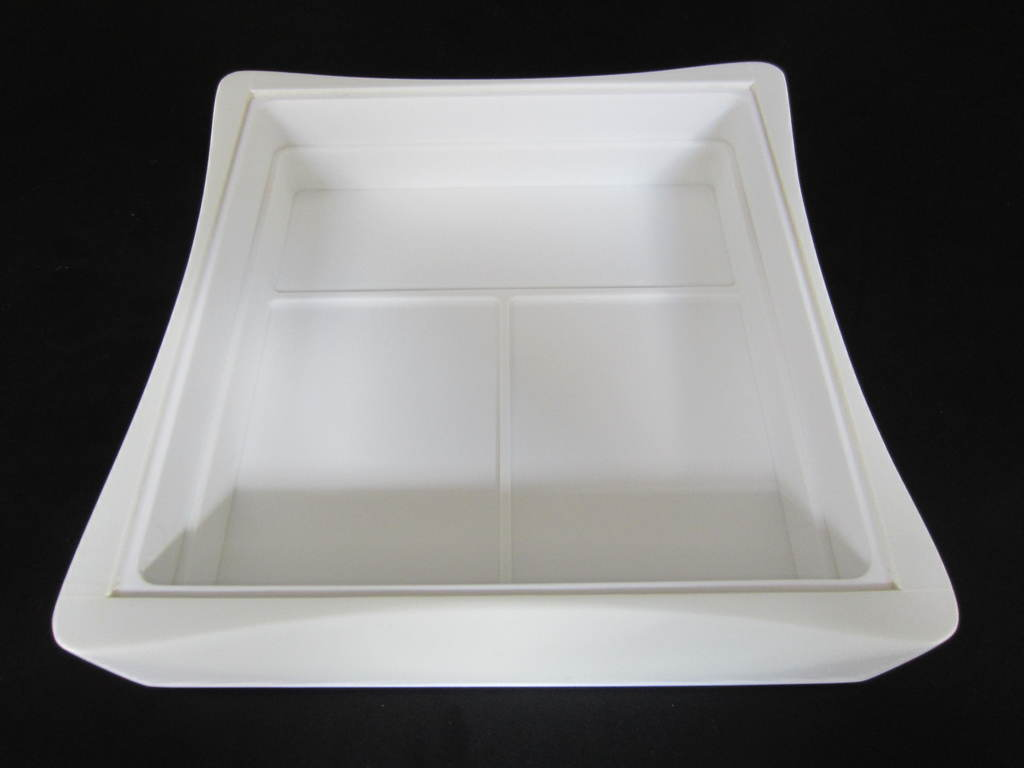plate: (53, 62, 958, 689)
